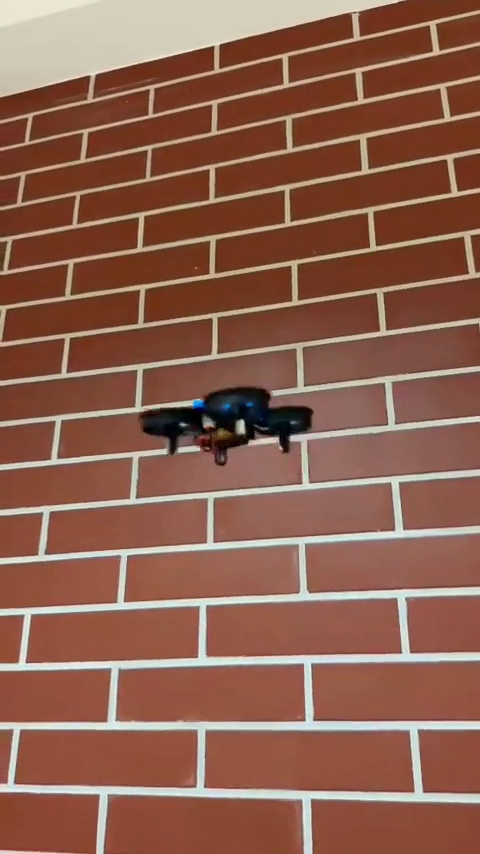drone: (132, 391, 313, 465)
